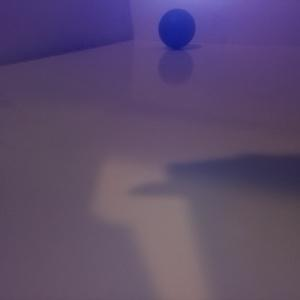dead_ball: (158, 8, 195, 48)
